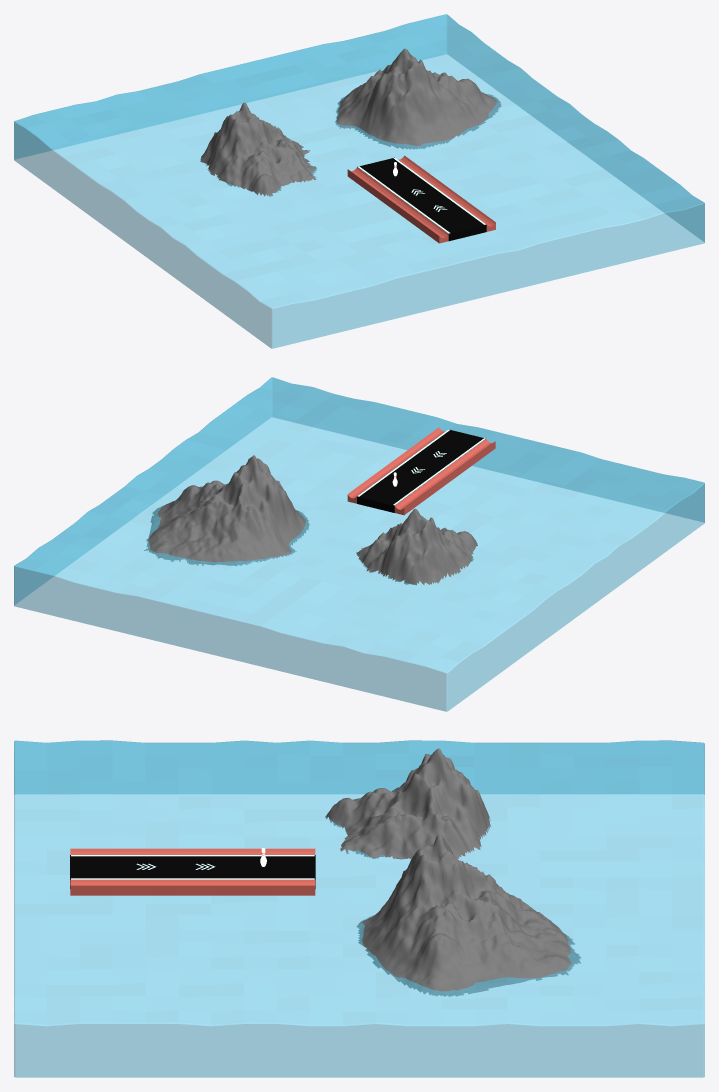
Rendered from BowlingSet2.glb.
The picture shows the model from 3 angles, top to bottom: view 1: azimuth 30°, elevation 25°; view 2: azimuth 150°, elevation 25°; view 3: azimuth 270°, elevation 25°; orthographic projection. The views are drawn at different scales.
Parts seen in each view (by area): view 1: sea, Landscape.005, Landscape.001, Cube.001, Cube.002, Cube; view 2: sea, Landscape.005, Landscape.001, Cube.001, Cube.002, Cube; view 3: sea, Landscape.005, Landscape.001, Cube.001, Cube, Cube.002.
Part boxes in pixels (box(x1,y1,x2,y2)): sea: box(14, 14, 704, 348); Landscape.005: box(335, 48, 501, 149); Landscape.001: box(200, 102, 317, 196); Cube.001: box(357, 157, 486, 241); Cube.002: box(347, 167, 448, 243); Cube: box(398, 155, 495, 231); sea: box(14, 377, 704, 711); Landscape.005: box(144, 455, 309, 566); Landscape.001: box(356, 508, 477, 585); Cube.001: box(357, 429, 485, 512); Cube.002: box(394, 439, 495, 515); Cube: box(347, 427, 445, 503); sea: box(14, 740, 704, 1077); Landscape.005: box(356, 834, 580, 996); Landscape.001: box(325, 748, 490, 859); Cube.001: box(70, 855, 315, 888); Cube: box(70, 879, 315, 895); Cube.002: box(70, 848, 315, 854).
Size of the model in its own units: 124 by 30.76 by 128.
